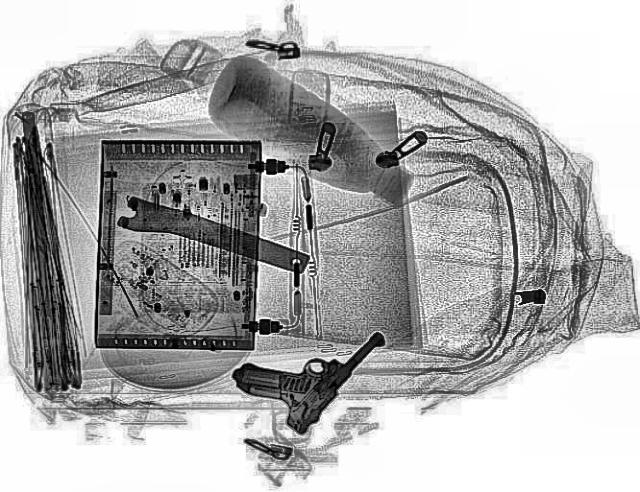Gun: (210, 297, 388, 437)
